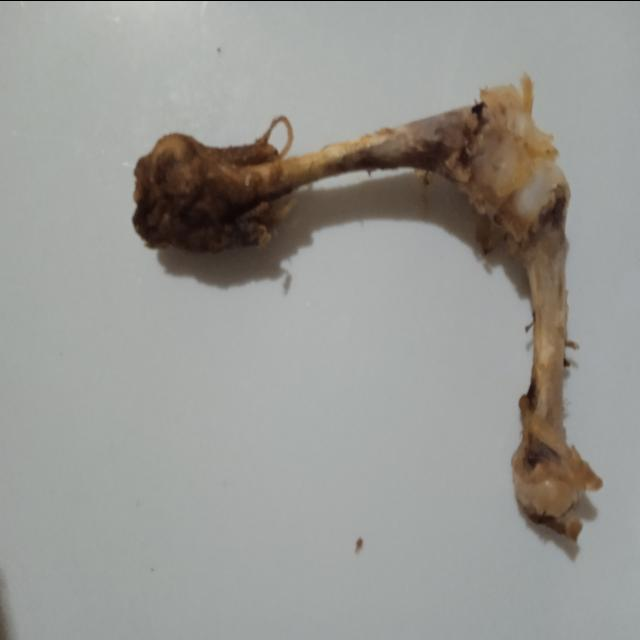bone: (118, 52, 611, 584)
